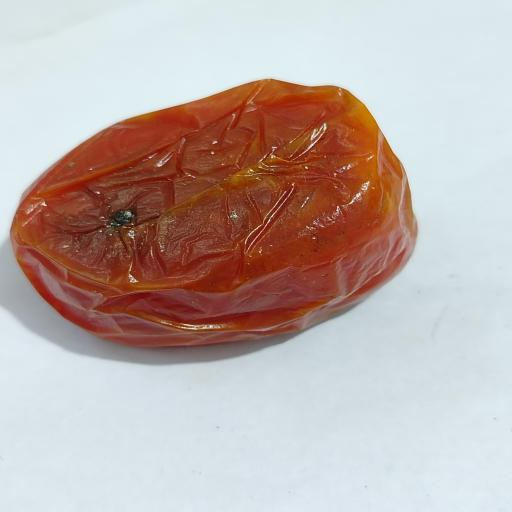spoiled: (12, 80, 416, 346)
